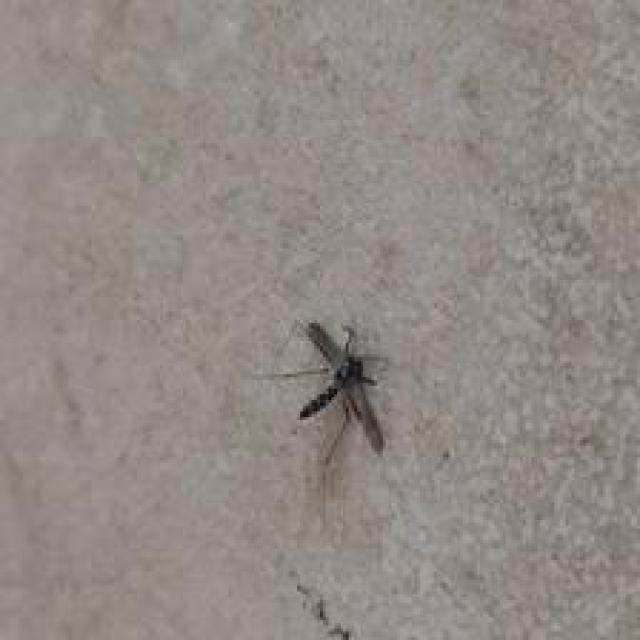Aedes albopictus: (253, 316, 390, 467)
